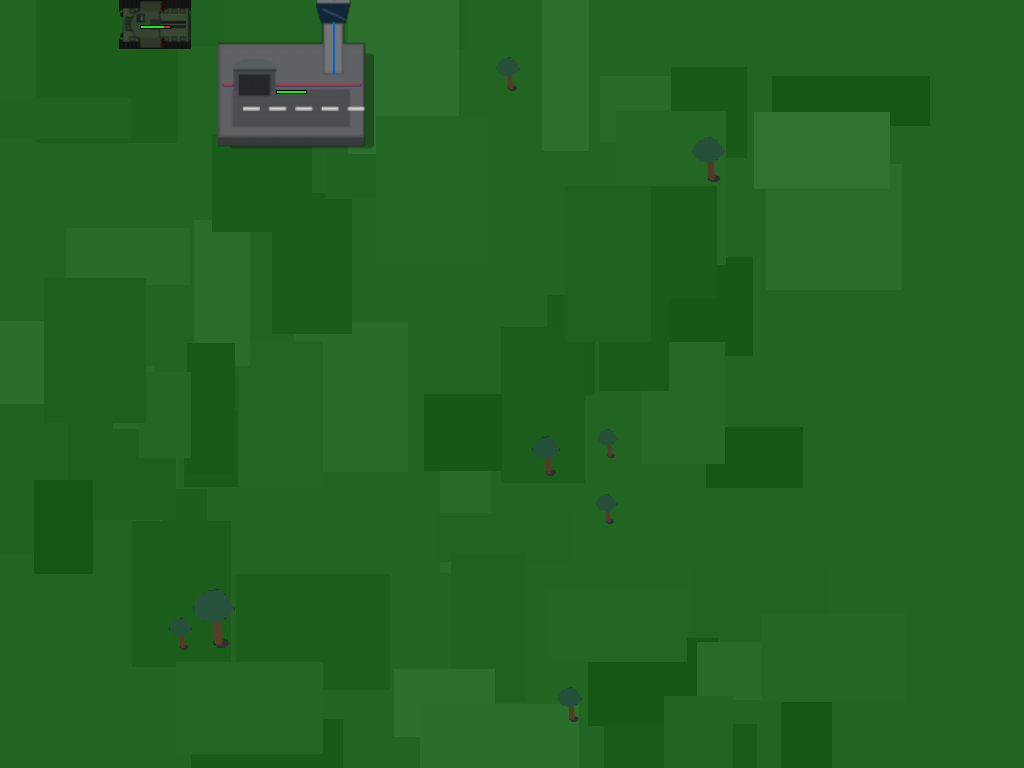Airfield: (222, 20, 358, 156)
TerminatorIFV: (126, 0, 183, 57)
